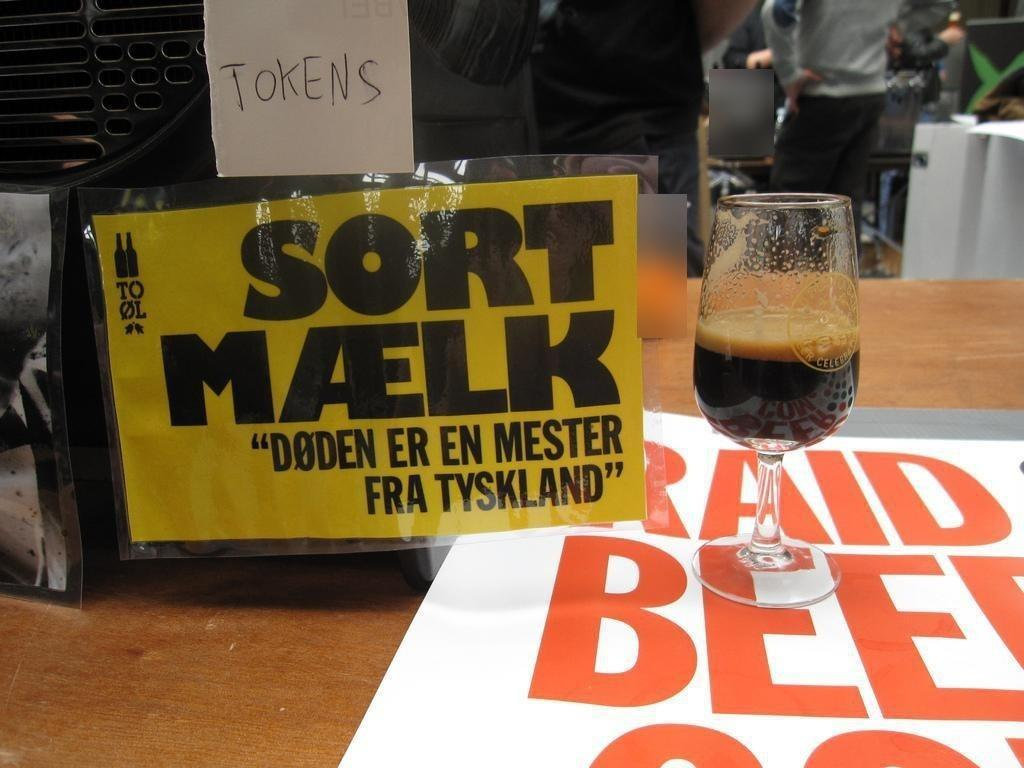glass-wine: (690, 191, 866, 607)
